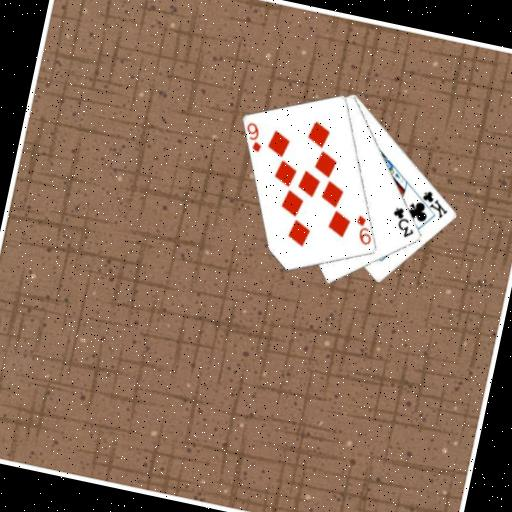3C: (385, 202, 420, 240)
9D: (349, 211, 378, 248), (239, 118, 268, 155)
KC: (410, 185, 453, 221)
